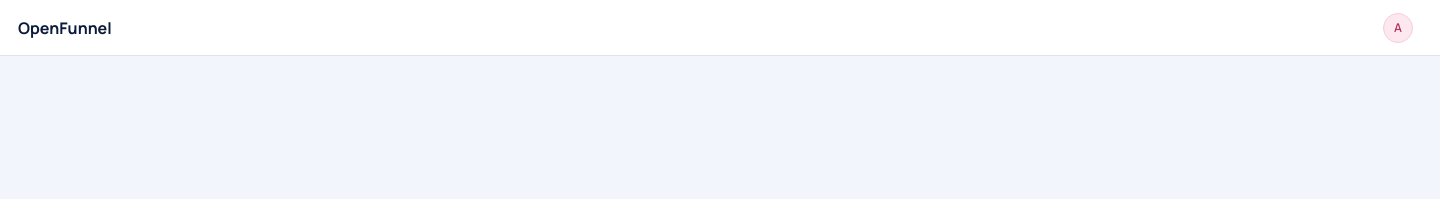
TopBar account menu › opens the account menu and logs out
Later steps or results of the test are not shown.
Check: the text "Log out" is not shown
Click the button named "Account menu" at {"x": 1398, "y": 28}, box [1374, 8, 1422, 48]
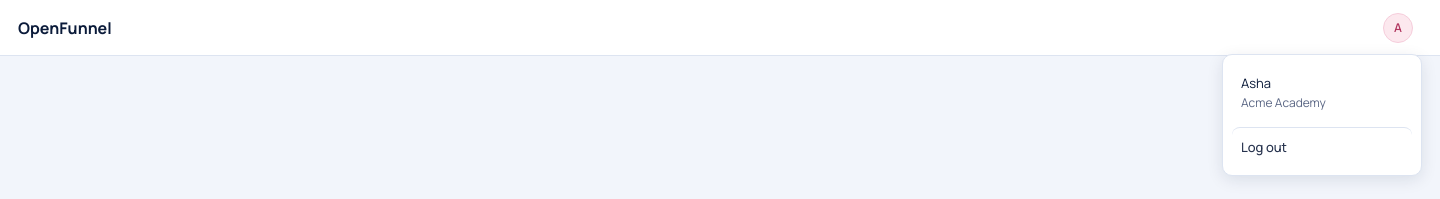
Check: the menu item "Log out" is shown, box [1232, 126, 1412, 166]
Check: the text "Acme Academy" is shown, box [1241, 94, 1326, 110]
